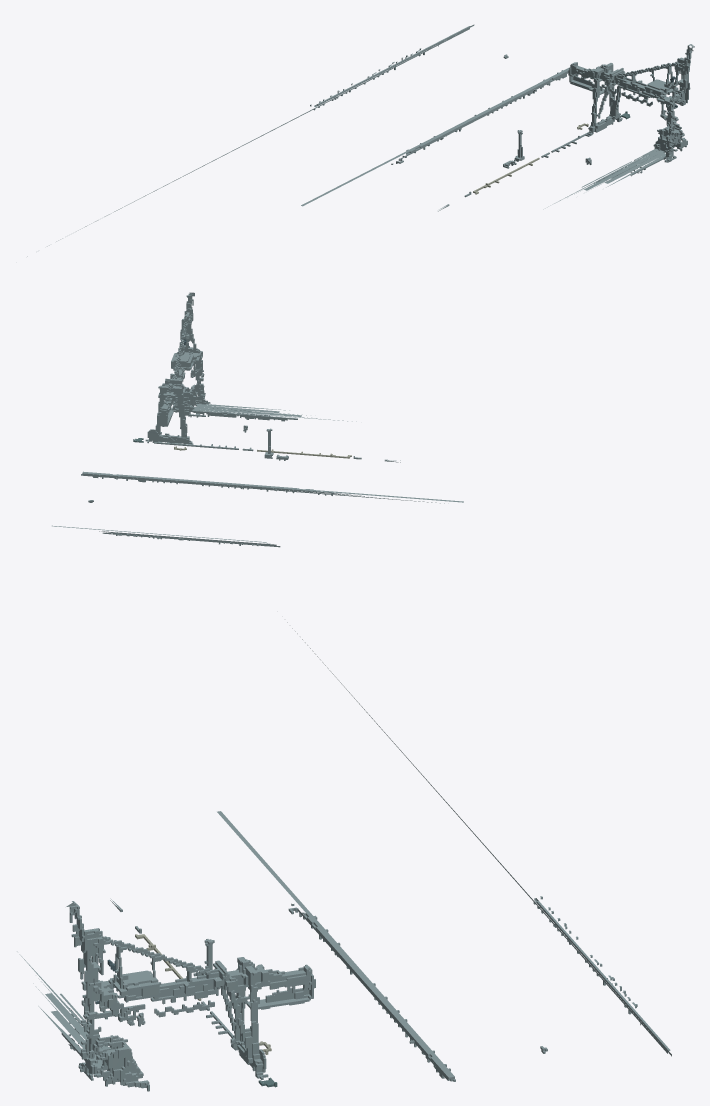
The picture shows the model from 3 angles, top to bottom: view 1: azimuth 30°, elevation 25°; view 2: azimuth 150°, elevation 25°; view 3: azimuth 270°, elevation 25°; orthographic projection. The views are drawn at different scales.
Parts seen in each view (by area): view 1: measured-industrial; view 2: measured-industrial; view 3: measured-industrial.
Part boxes in pixels (<box>): measured-industrial: <box>27,24,694,256</box>; measured-industrial: <box>52,292,463,547</box>; measured-industrial: <box>17,622,671,1091</box>.
Size of the model in its own units: 499 by 92.07 by 298.
